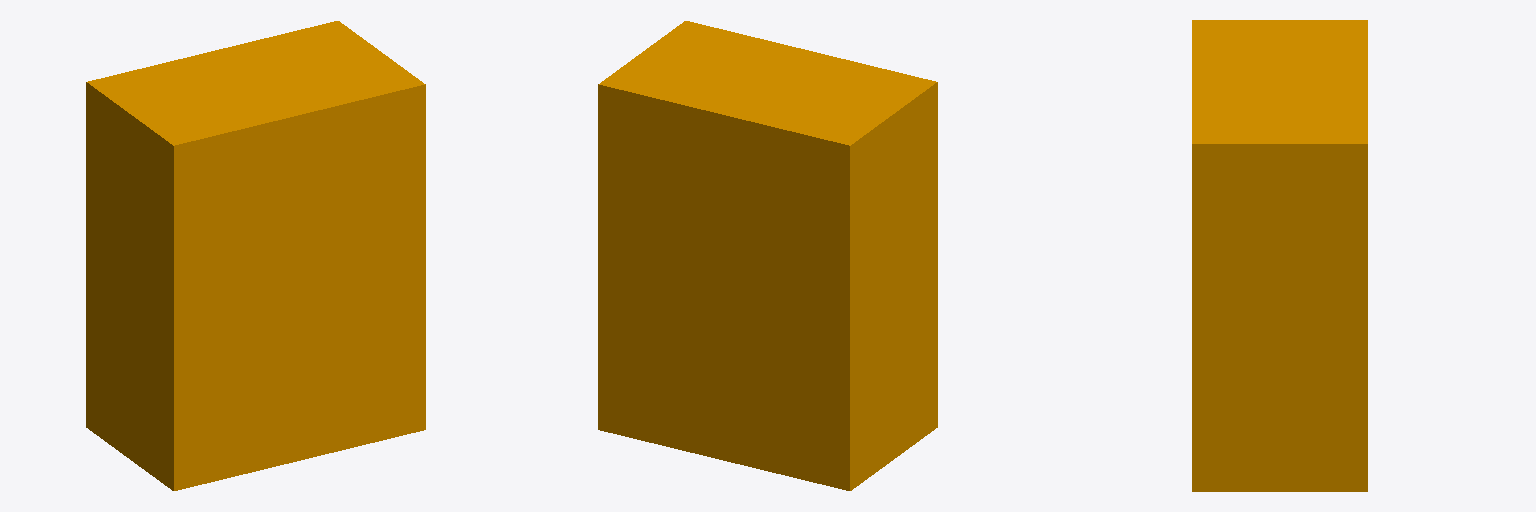
robot.urdf — soda.off:
<?xml version="1.0"?>
<robot name="soda.off">
	<link name="soda.off">
		<inertial>
			<!--origin xyz="0 0 0" rpy="0 0 0" /-->
			<mass value="0.5" />
			<!--inertia ixx="0.000360" ixy="0" ixz="0" iyy="0.0000615" iyz="0" izz="0.00036" /-->
		</inertial>
    		<visual>
	      		<!--origin rpy="0 0 0" xyz="0 0 0"/-->
      			<geometry>
        			<mesh filename="soda.off.obj"/>
      			</geometry>
         	</visual>
    		<collision>
      			<!--origin rpy="0 0 0" xyz="0 0 0"/-->
      			<geometry>
        			<mesh filename="soda.off.obj"/>
      			</geometry>
    		</collision>
	</link>
</robot>

--- Render facts (derived) ---
Views: 3 orthographic renders of the robot side by side, from view 1: azimuth 30°, elevation 25°; view 2: azimuth 150°, elevation 25°; view 3: azimuth 270°, elevation 25°.
Model soda.off with 1 links and 0 joints (none), rooted at soda.off, posed every joint at zero.
Links seen in each view (by area): view 1: soda.off; view 2: soda.off; view 3: soda.off.
Boxes of the visible links, x1,y1,x2,y2 form: soda.off: [86, 21, 425, 490]; soda.off: [598, 21, 937, 490]; soda.off: [1192, 20, 1367, 491].
Bounding box of the posed robot: 0.09 × 0.054 × 0.118 m (x, y, z).
1 mesh visuals loaded from 1 distinct referenced files (1 OBJ).